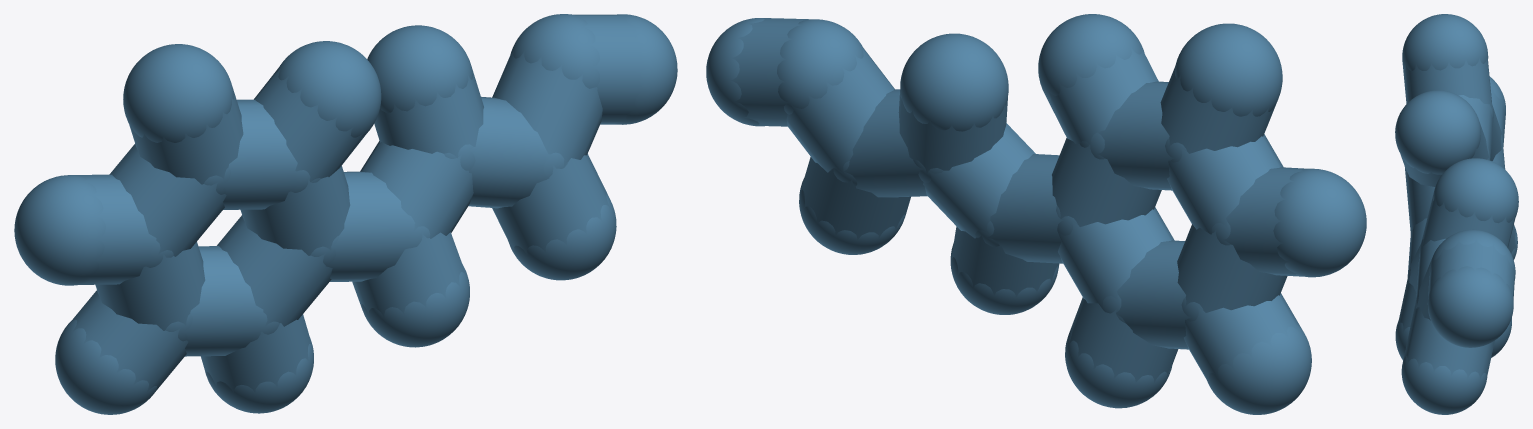
The model's file is 444539-sticks-print_NIH3D.glb.
The picture shows the model from 3 angles, left to right: view 1: azimuth 30°, elevation 25°; view 2: azimuth 150°, elevation 25°; view 3: azimuth 270°, elevation 25°; orthographic projection. The views are drawn at different scales.
Parts seen in each view (by area): view 1: bonds, atoms; view 2: bonds, atoms; view 3: atoms, bonds.
Boxes of the visible parts, box(x1,y1,x2,y2) form: bonds: box(68, 14, 650, 394); atoms: box(14, 14, 677, 414); bonds: box(730, 18, 1308, 385); atoms: box(706, 14, 1366, 414); atoms: box(1395, 14, 1518, 414); bonds: box(1397, 54, 1516, 380).
Bounding box in the file's own units: 10.9 × 6.28 × 2.3.
